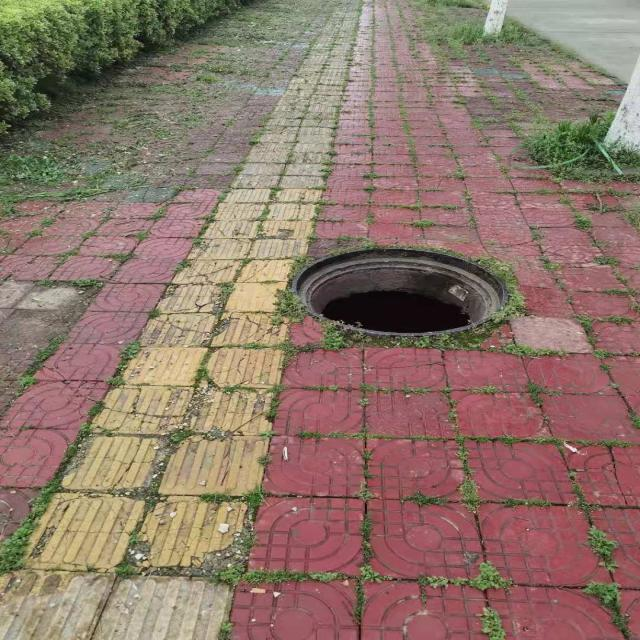Uncovered: (293, 245, 507, 337)
